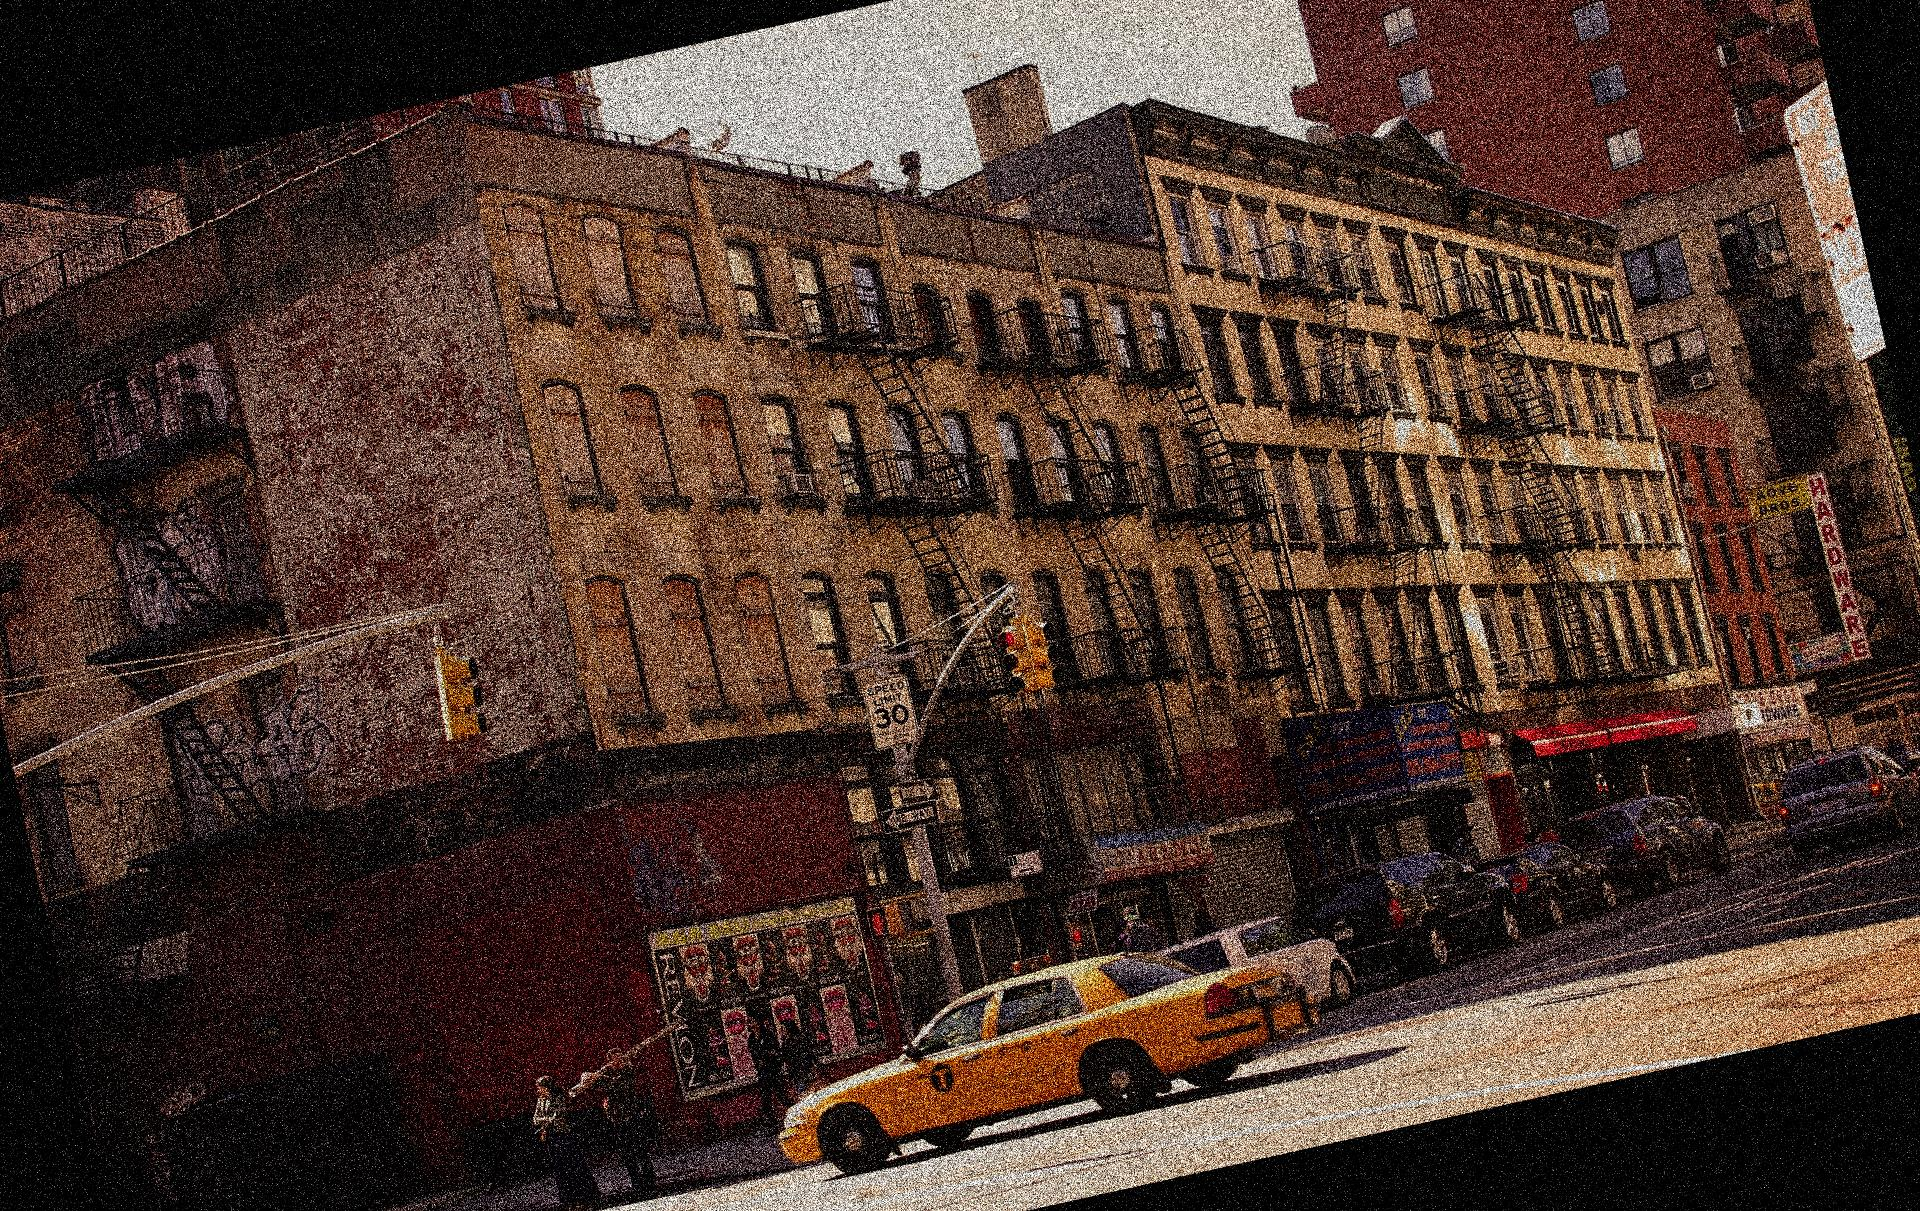taxi: (755, 931, 1307, 1178)
